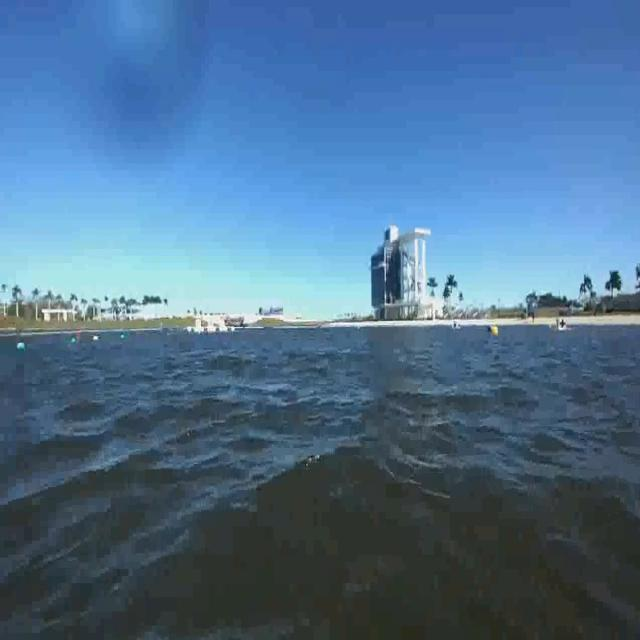green-buoy: (16, 343, 26, 353)
yellow-buoy: (492, 323, 501, 338)
